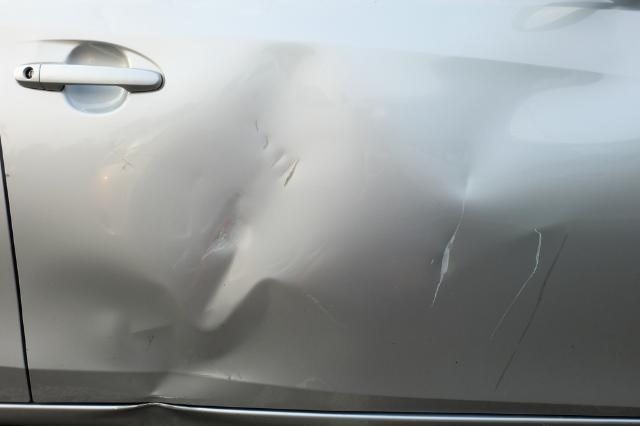dent: (89, 34, 624, 406), (428, 229, 457, 302)
scratch: (491, 234, 568, 394), (488, 229, 543, 343)
